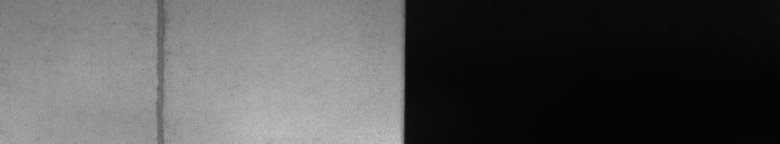hd: (150, 4, 169, 136)
